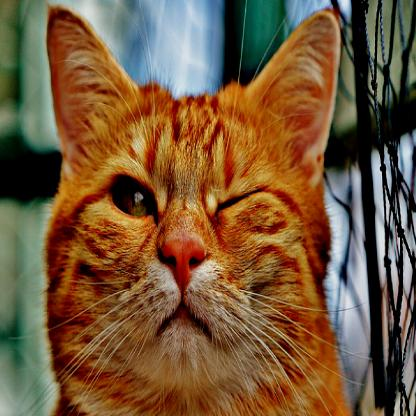cat: (36, 2, 351, 415)
